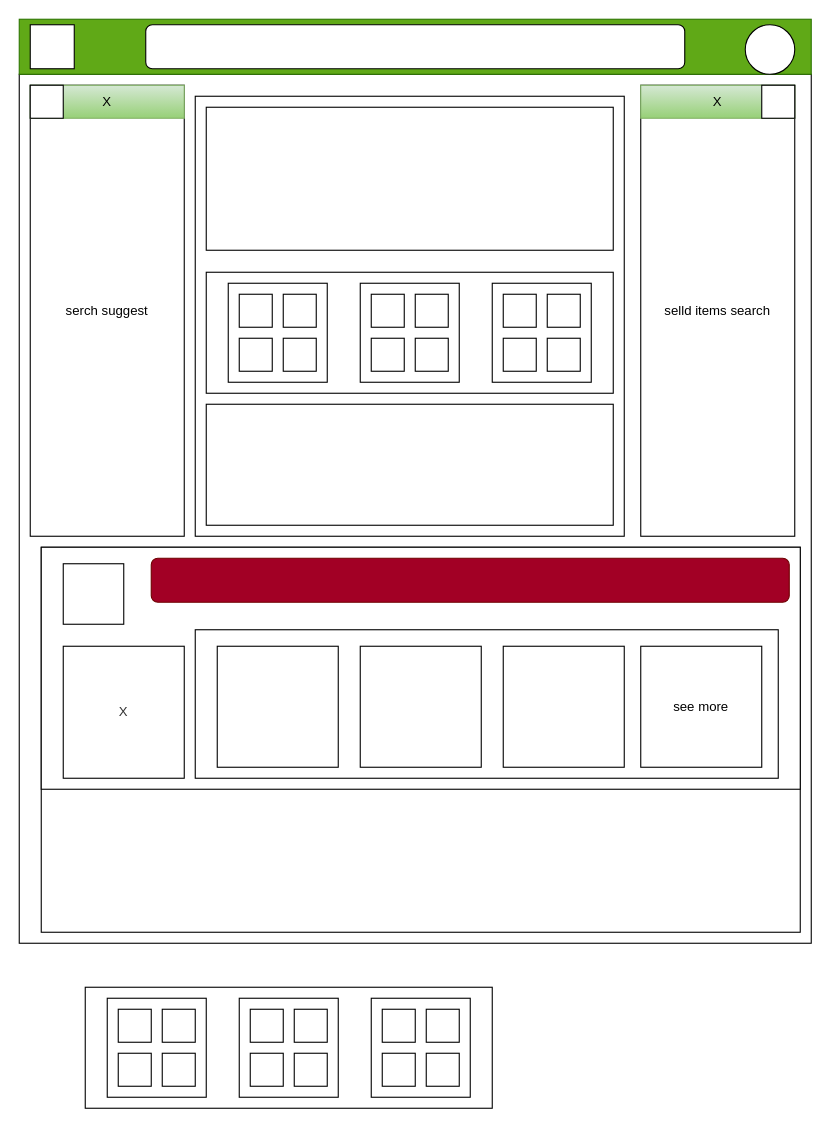
The diagram is 831 pixels wide and 1128 high, and some of its shapes have lost their labels. The centre of each missing label's shape, as x and y in pixels:
"banner (img)" belongs at pixel 409 178.
"for next plain" belongs at pixel 409 464.
"name of product" belongs at pixel 469 579.
